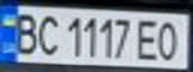1: (60, 12, 84, 57), (78, 14, 100, 57), (97, 15, 118, 58)
7: (112, 15, 136, 60)
B: (9, 9, 42, 56)
C: (33, 11, 63, 56)
E: (133, 16, 163, 61)
O: (154, 17, 187, 63)
